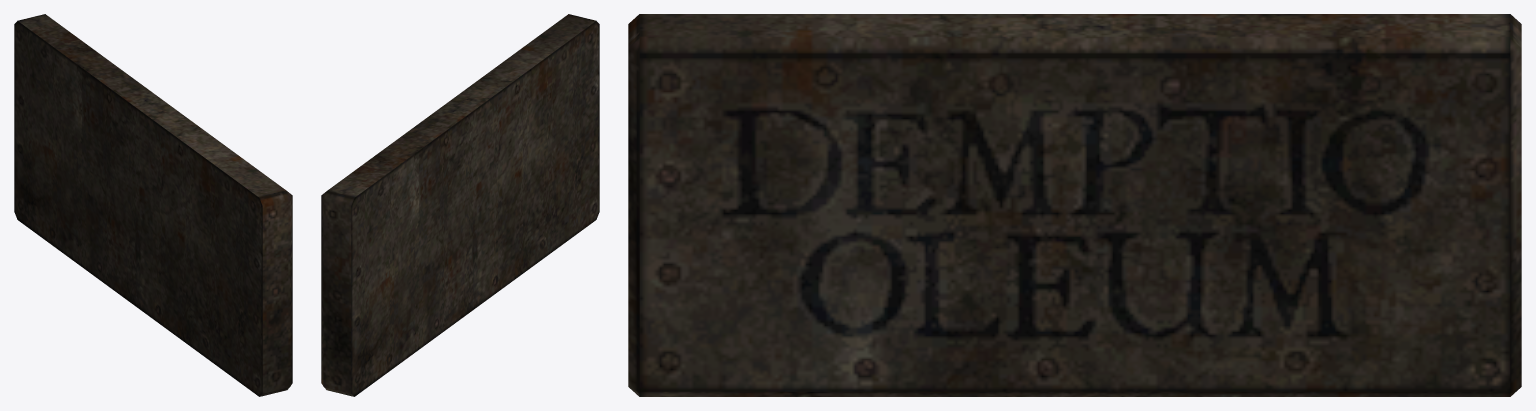
The model's file is oil_drainage_sign.dae.
The picture shows the model from 3 angles, left to right: view 1: azimuth 30°, elevation 25°; view 2: azimuth 150°, elevation 25°; view 3: azimuth 270°, elevation 25°; orthographic projection. The views are drawn at different scales.
Visible parts, largest first — view 1: oil_drainage; view 2: oil_drainage; view 3: oil_drainage.
Part boxes in pixels (bbox=[...]): oil_drainage: bbox=[14, 14, 292, 396]; oil_drainage: bbox=[321, 14, 599, 396]; oil_drainage: bbox=[628, 14, 1521, 396].
Size of the model in its own units: 0.1305 by 0.7495 by 1.69.
